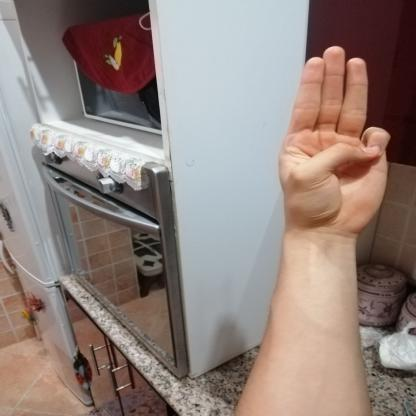THA: (261, 35, 404, 240)
